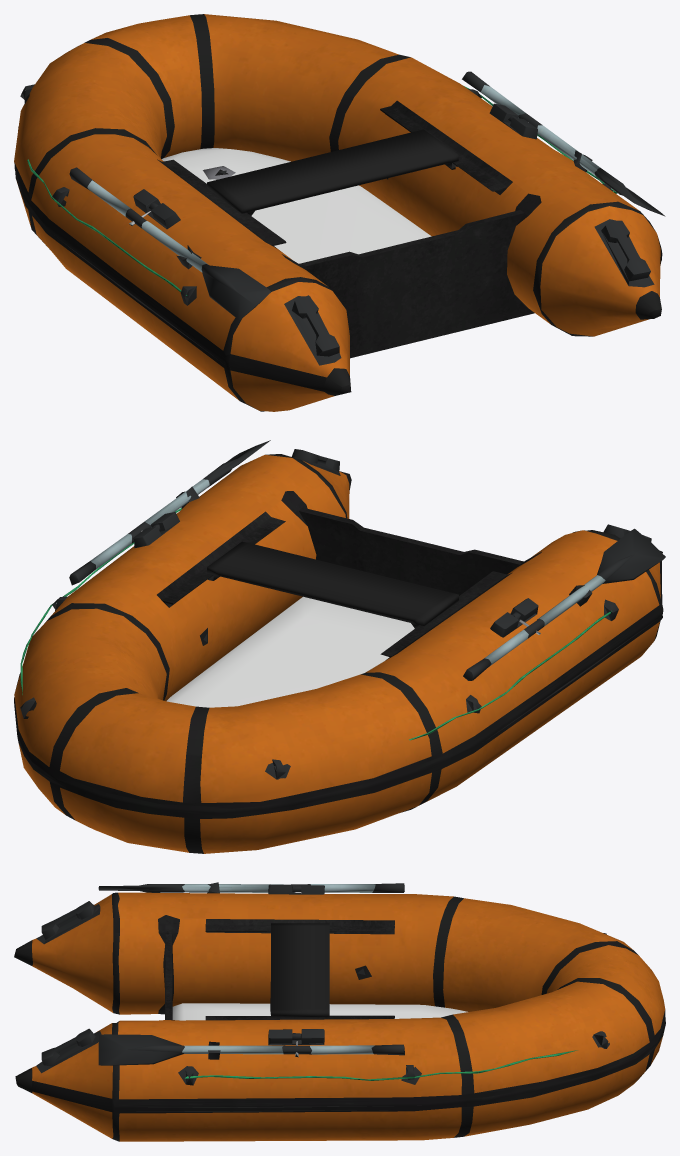
File: rubber-boat.fbx
3 views of the same model, one above another, from view 1: azimuth 30°, elevation 25°; view 2: azimuth 150°, elevation 25°; view 3: azimuth 270°, elevation 25° (orthographic). The views are drawn at different scales.
Parts seen in each view (by area): view 1: rubber_boat; view 2: rubber_boat; view 3: rubber_boat.
Part boxes in pixels (<box>): rubber_boat: <box>14,14,665,411</box>; rubber_boat: <box>14,440,665,853</box>; rubber_boat: <box>14,882,665,1141</box>.
Bounding box in the file's own units: 231 × 69.46 × 355.
